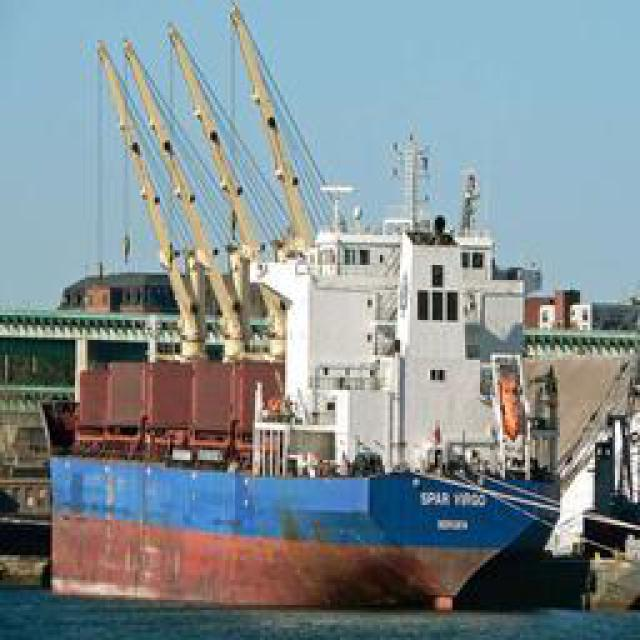Ship: (24, 10, 629, 618)
